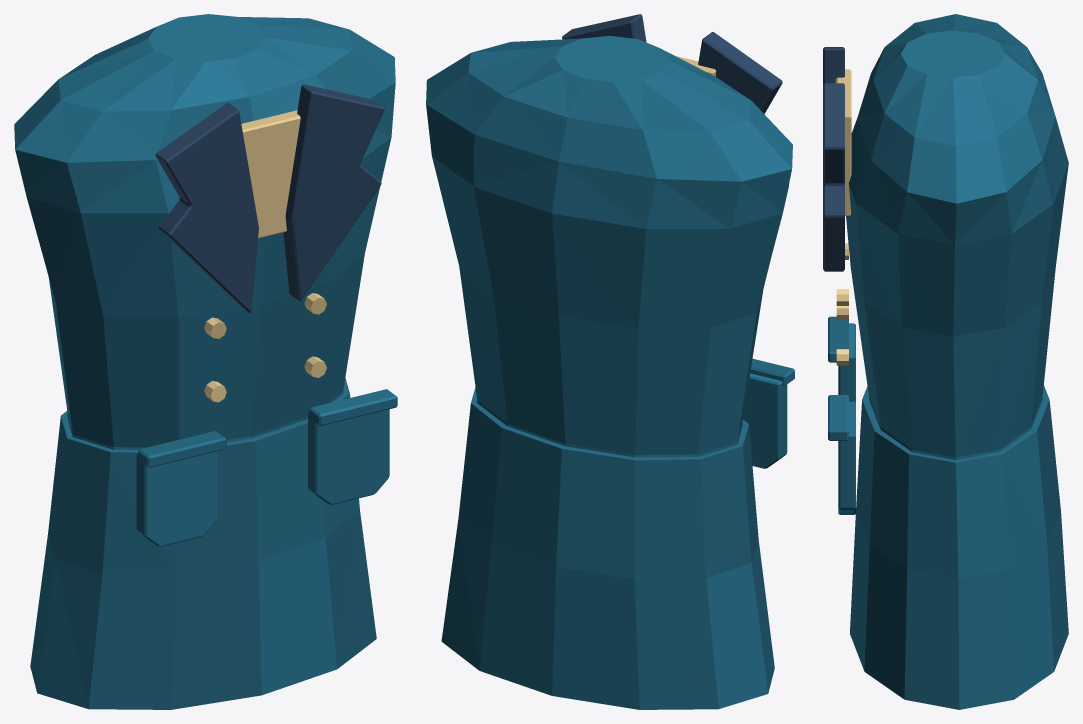
File: EP_Torso_SeaCoat.fbx
3 renders of one model, left to right at view 1: azimuth 30°, elevation 25°; view 2: azimuth 150°, elevation 25°; view 3: azimuth 270°, elevation 25°, orthographic. The views are drawn at different scales.
Parts seen in each view (by area): view 1: EP_Torso_SeaCoat; view 2: EP_Torso_SeaCoat; view 3: EP_Torso_SeaCoat.
Boxes of the visible parts, box(x1,y1,x2,y2) form: EP_Torso_SeaCoat: box(14, 14, 397, 709); EP_Torso_SeaCoat: box(426, 14, 794, 709); EP_Torso_SeaCoat: box(823, 14, 1068, 709).
Bounding box in the file's own units: 0.47 × 0.73 × 0.2805.
Materials: 3 (3 with a texture image).
